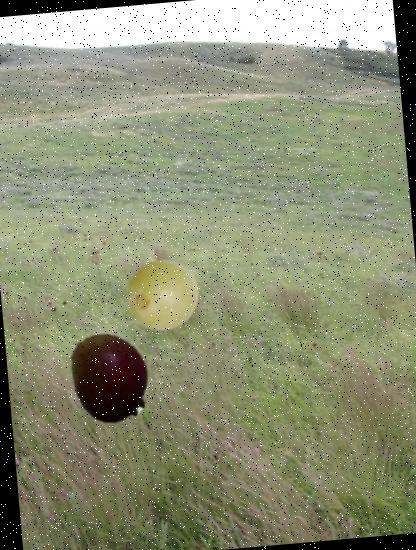Grape: (124, 256, 204, 336)
Mango: (58, 327, 160, 428)
